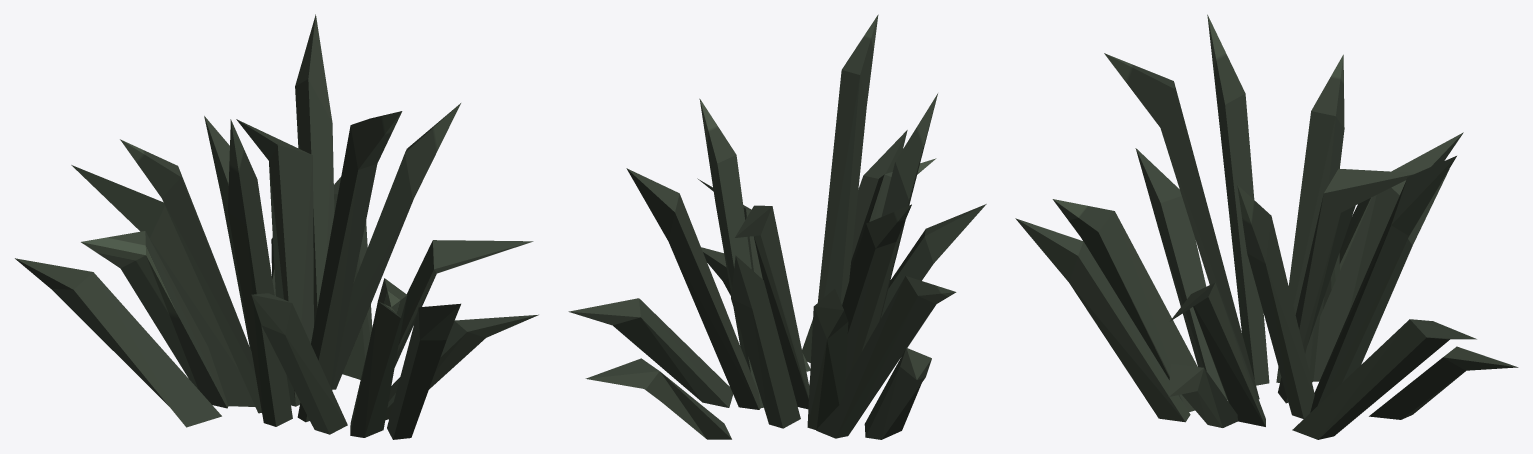
Rendered from crypt_plant_b.gltf.
The picture shows the model from 3 angles, left to right: view 1: azimuth 30°, elevation 25°; view 2: azimuth 150°, elevation 25°; view 3: azimuth 270°, elevation 25°; orthographic projection. The views are drawn at different scales.
Visible parts, largest first — view 1: crypt_plant_b; view 2: crypt_plant_b; view 3: crypt_plant_b.
Part boxes in pixels (left/top/right/bottom): crypt_plant_b: left=15, top=14, right=538, bottom=439; crypt_plant_b: left=568, top=14, right=986, bottom=439; crypt_plant_b: left=1015, top=14, right=1518, bottom=439.
Size of the model in its own units: 1.11 by 0.985 by 1.29.
1 material, 1 textured.
